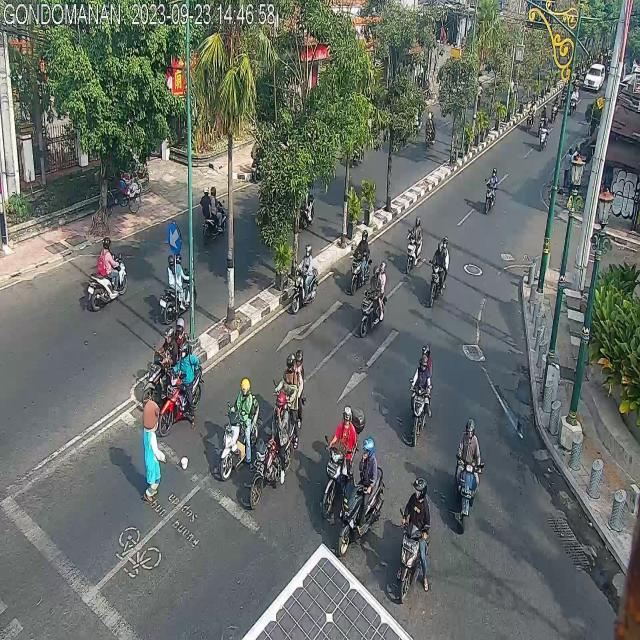motorcycle: (343, 434, 387, 558), (249, 390, 287, 502), (398, 477, 431, 602), (327, 410, 361, 528), (160, 345, 205, 431), (222, 374, 258, 476), (152, 324, 194, 405), (87, 238, 128, 312), (160, 251, 197, 328), (455, 418, 481, 524), (280, 348, 305, 452), (359, 260, 389, 338), (410, 346, 434, 441), (198, 178, 228, 243), (292, 243, 318, 315), (427, 238, 450, 305), (348, 224, 371, 291), (407, 216, 423, 277), (484, 165, 499, 214)
